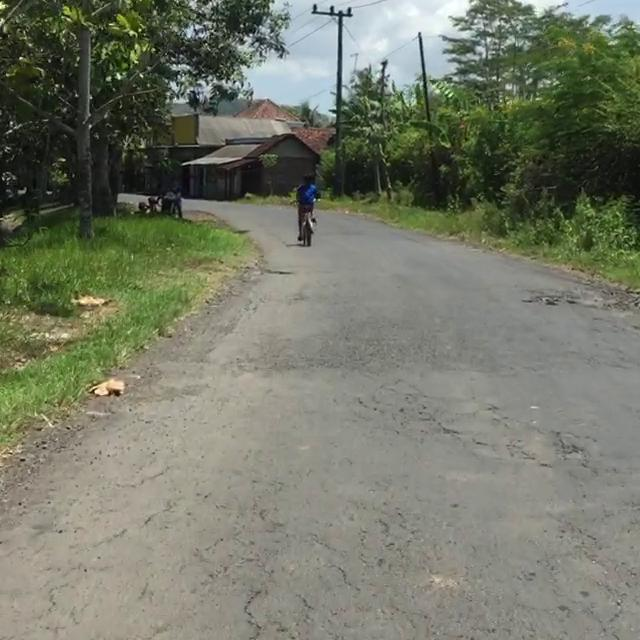retak_kulit_buaya: (219, 515, 374, 640)
